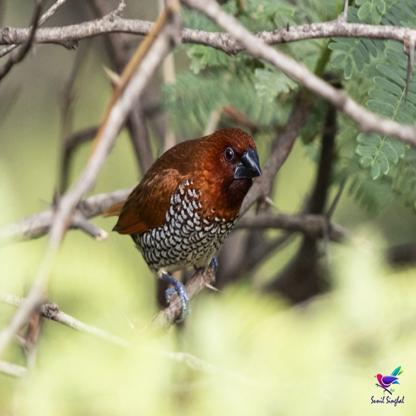Burung: (112, 127, 262, 324)
